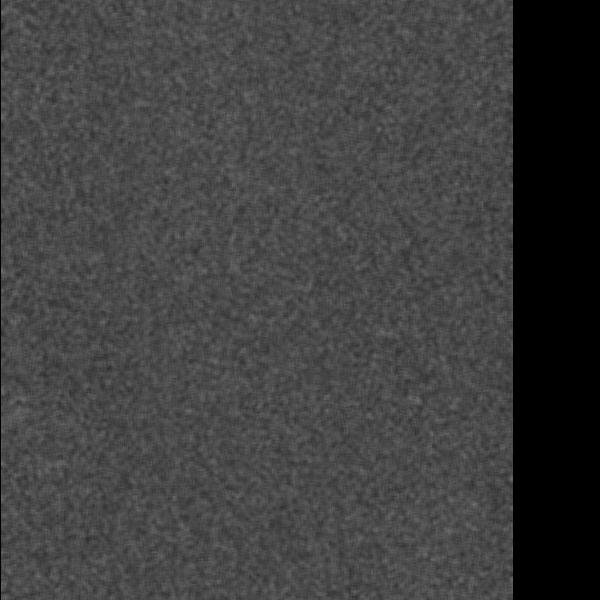spark: (463, 167, 510, 290), (110, 94, 145, 112)
